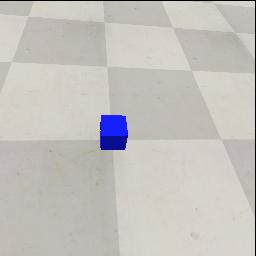box: (100, 115, 128, 150)
